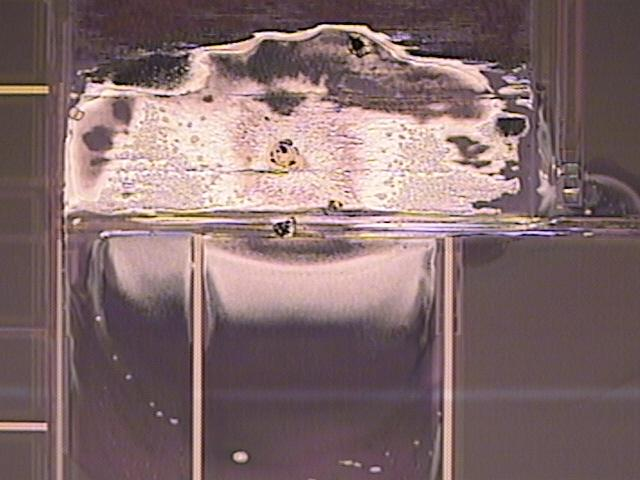BLOCK ETCH: (49, 1, 640, 480)
